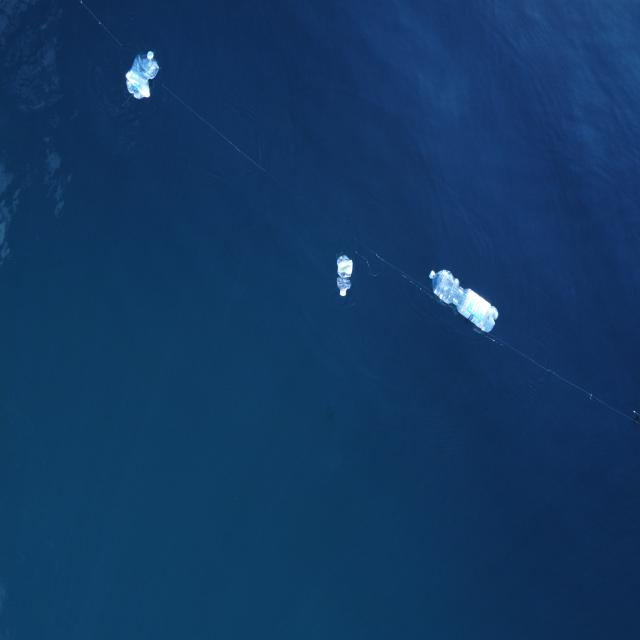bottles: (426, 254, 501, 335), (122, 45, 162, 107), (329, 243, 355, 310)
